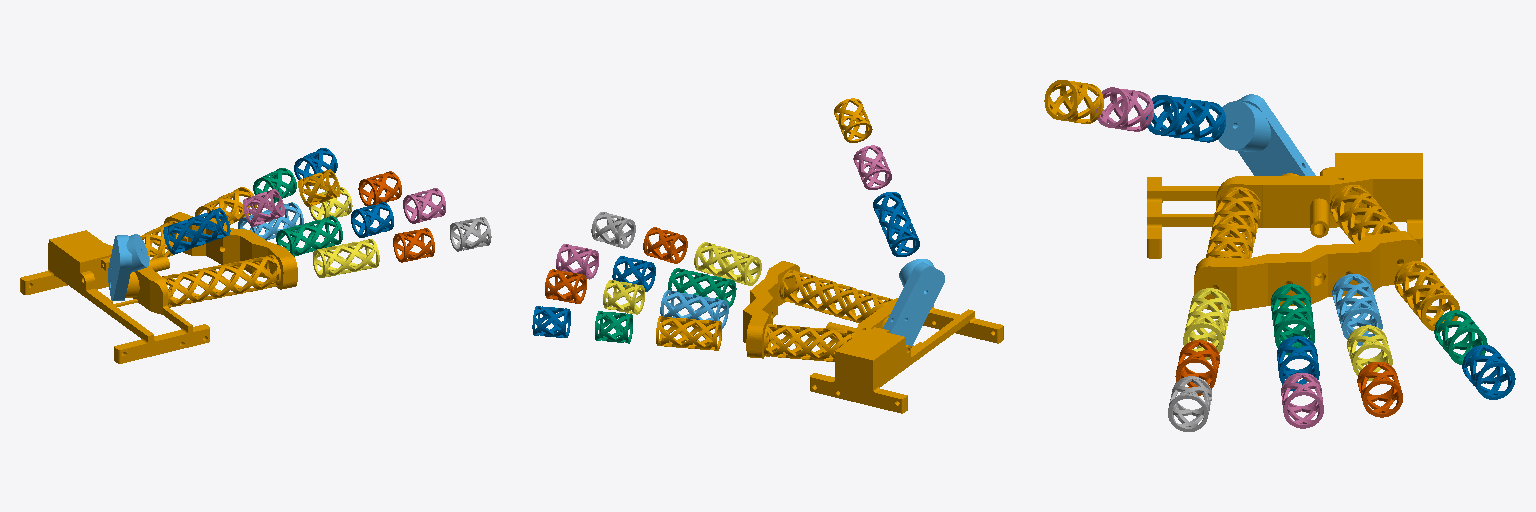
robot.urdf — hand:
<robot name="hand">

    <!--Base-->
    <link name="palm">
        <inertial>
            <density value="1400"/>
        </inertial>
        <collision>
            <origin xyz="0.046 -0.014 0." rpy="0 0 -0.1"/>
            <geometry>
                <box size="0.065 0.035 0.015" />
            </geometry>
        </collision>
        <collision>
            <origin xyz="0.039 0.016 0.0" rpy="0 0 0.35"/>
            <geometry>
                <box size="0.055 0.032 0.015" />
            </geometry>
        </collision>
        <collision>
            <origin xyz="0.043 0.0 0.0" rpy="0 0 0"/>
            <geometry>
                <box size="0.062 0.025 0.015" />
            </geometry>
        </collision>
        <collision>
            <origin xyz="0.011 -0.002 0.0" rpy="0 0 0"/>
            <geometry>
                <box size="0.006 0.05 0.015" />
            </geometry>
        </collision>
        <visual>
            <origin xyz="0 0 0" rpy="-3.142 0 -1.571"/>
            <geometry>
                <mesh filename="meshes/wrist_bone.stl" scale="0.001 0.001 0.001"/>
            </geometry>
        </visual>
        <visual>
            <origin xyz="0.014 -0.02 0" rpy="0 0 -1.661"/>
            <geometry>
                <mesh filename="meshes/metacarpal_long.stl" scale="0.001 0.001 0.001"/>
            </geometry>
        </visual>
        <visual>
            <origin xyz="0.012 0.016 0" rpy="0 0 -1.241"/>
            <geometry>
                <mesh filename="meshes/metacarpal_short.stl" scale="0.001 0.001 0.001"/>
            </geometry>
        </visual>
    </link>
    
    <!--Thumb-->
    <link name="thumb_yaw">
        <inertial>
            <density value="1400"/>
        </inertial>
        <collision>
            <origin xyz="0.004 0 0" rpy="0 -1.571 0"/>
            <geometry>
                <cylinder length="0.01" radius="0.007" />
            </geometry>
        </collision>
        <collision>
            <origin xyz="-0.0035 -0.015 0" rpy="0 -1.571 0"/>
            <geometry>
                <box size="0.016 0.04 0.005" />
            </geometry>
        </collision>
        <visual>
            <origin xyz="-0.0033 0 0" rpy="0 0 -1.571"/>
            <geometry>
                <mesh filename="meshes/thumb_yaw.stl" scale="0.001 0.001 0.001"/>
            </geometry>
        </visual>
    </link>
    <link name="thumb_base">
        <inertial>
            <density value="1400"/>
        </inertial>
        <collision>
            <origin xyz="-0.002 0 0" rpy="0 -1.571 0"/>
            <geometry>
                <cylinder length="0.018" radius="0.007" />
            </geometry>
        </collision>
    </link>

    <link name="thumb_proximal_base"/>
    <link name="thumb_proximal">
        <inertial>
            <density value="1400"/>
        </inertial>
        <collision>
            <origin xyz="0.02 0 0" rpy="0 -1.571 0"/>
            <geometry>
                <cylinder length="0.04" radius="0.007" />
            </geometry>
        </collision>
        <visual>
            <origin xyz="0.007 0 0" rpy="0 0 -1.571"/>
            <geometry>
                <mesh filename="meshes/bone_long.stl" scale="0.001 0.001 0.001"/>
            </geometry>
        </visual>
    </link>

    <link name="thumb_middle_base"/>
    <link name="thumb_middle">
        <inertial>
            <density value="1400"/>
        </inertial>
        <collision>
            <origin xyz="0.014 0 0" rpy="0 -1.571 0"/>
            <geometry>
                <cylinder length="0.028" radius="0.007" />
            </geometry>
        </collision>
        <visual>
            <origin xyz="0.007 0.0 0" rpy="0 0 -1.571"/>
            <geometry>
                <mesh filename="meshes/bone_short.stl" scale="0.001 0.001 0.001"/>
            </geometry>
        </visual>
    </link>

    <link name="thumb_distal_base"/>
    <link name="thumb_distal">
        <inertial>
            <density value="1400"/>
        </inertial>
        <collision>
            <origin xyz="0.011 0 0" rpy="0 -1.571 0"/>
            <geometry>
                <cylinder length="0.022" radius="0.007" />
            </geometry>
        </collision>
        <visual>
            <origin xyz="0.007 0 0" rpy="0 0 -1.571"/>
            <geometry>
                <mesh filename="meshes/bone_short.stl" scale="0.001 0.001 0.001"/>
            </geometry>
        </visual>
    </link> 

    <joint name="palm_to_thumb_yaw" type="revolute">
        <child link="thumb_yaw"/>
        <parent link="palm"/>
        <origin xyz="0.005 -0.003 0" rpy="0 0 -0.35"/>
        <axis xyz="-1 0 0"/>
        <limit lower="0.3" upper="1.571" effort="1e+15" velocity="20"/>
    </joint>
    <joint name="thumb_yaw_to_thumb_base" type="fixed">
        <child link="thumb_base"/>
        <parent link="thumb_yaw"/>
        <origin xyz="0.005 -0.03 0.0" rpy="-0 0 -0.55"/>
    </joint>
    <joint name="thumb_base_to_thumb_proximal" type="revolute">
        <child link="thumb_proximal_base"/>
        <parent link="thumb_base"/>
        <origin xyz="0.007 0 0" rpy="0 0 0"/>
        <axis xyz="0 -1 0"/>
        <limit lower="0" upper="1.571" effort="1e+15" velocity="20"/>
    </joint>
    <joint name="thumb_proximal_morph" type="prismatic">
        <child link="thumb_proximal"/>
        <parent link="thumb_proximal_base"/>
        <origin xyz="0 0 0" rpy="0 0 0"/>
        <axis xyz="1 0 0"/>
        <limit lower="-0.013" upper="0" effort="1e+15" velocity="0.1"/>
    </joint>
    <joint name="thumb_proximal_to_thumb_middle" type="revolute">
        <child link="thumb_middle_base"/>
        <parent link="thumb_proximal"/>
        <origin xyz="0.04 0 0" rpy="0 0 0"/>
        <axis xyz="0 -1 0"/>
        <limit lower="0" upper="1.571" effort="1e+15" velocity="20"/>
    </joint>
    <joint name="thumb_middle_morph" type="prismatic">
        <child link="thumb_middle"/>
        <parent link="thumb_middle_base"/>
        <origin xyz="0 0 0" rpy="0 0 0"/>
        <axis xyz="1 0 0"/>
        <limit lower="-0.0075" upper="0" effort="1e+15" velocity="0.1"/>
    </joint>
    <joint name="thumb_middle_to_thumb_distal" type="revolute">
        <child link="thumb_distal_base"/>
        <parent link="thumb_middle"/>
        <origin xyz="0.028 0 0" rpy="0 0 0"/>
        <axis xyz="0 -1 0"/>
        <limit lower="0" upper="1.571" effort="1e+15" velocity="20"/>
    </joint>
    <joint name="thumb_distal_morph" type="prismatic">
        <child link="thumb_distal"/>
        <parent link="thumb_distal_base"/>
        <origin xyz="0 0 0" rpy="0 0 0"/>
        <axis xyz="1 0 0"/>
        <limit lower="-0.0075" upper="0" effort="1e+15" velocity="0.1"/>
    </joint>
    
    <!--Index-->
    <link name="index_base">
        <inertial>
            <density value="1400"/>
        </inertial>
        <collision>
            <origin xyz="0.0035 0 0" rpy="0 -1.571 0"/>
            <geometry>
                <cylinder length="0.007" radius="0.007" />
            </geometry>
        </collision>
    </link>

    <link name="index_proximal_base"/>
    <link name="index_proximal">
        <inertial>
            <density value="1400"/>
        </inertial>
        <collision>
            <origin xyz="0.02 0 0" rpy="0 -1.571 0"/>
            <geometry>
                <cylinder length="0.04" radius="0.007" />
            </geometry>
        </collision>
        <visual>
            <origin xyz="0.007 0 0" rpy="0 0 -1.571"/>
            <geometry>
                <mesh filename="meshes/bone_long.stl" scale="0.001 0.001 0.001"/>
            </geometry>
        </visual>
    </link>

    <link name="index_middle_base"/>
    <link name="index_middle">
        <inertial>
            <density value="1400"/>
        </inertial>
        <collision>
            <origin xyz="0.014 0 0" rpy="0 -1.571 0"/>
            <geometry>
                <cylinder length="0.028" radius="0.007" />
            </geometry>
        </collision>
        <visual>
            <origin xyz="0.007 0.0 0" rpy="0 0 -1.571"/>
            <geometry>
                <mesh filename="meshes/bone_short.stl" scale="0.001 0.001 0.001"/>
            </geometry>
        </visual>
    </link>

    <link name="index_distal_base"/>
    <link name="index_distal">
        <inertial>
            <density value="1400"/>
        </inertial>
        <collision>
            <origin xyz="0.011 0 0" rpy="0 -1.571 0"/>
            <geometry>
                <cylinder length="0.022" radius="0.007" />
            </geometry>
        </collision>
        <visual>
            <origin xyz="0.007 0 0" rpy="0 0 -1.571"/>
            <geometry>
                <mesh filename="meshes/bone_short.stl" scale="0.001 0.001 0.001"/>
            </geometry>
        </visual>
    </link> 
    
    <joint name="palm_to_index_base" type="fixed">
        <child link="index_base"/>
        <parent link="palm"/>
        <origin xyz="0.077 -0.028 0.0003" rpy="0 0 -0.09"/>
    </joint>
    <joint name="index_base_to_index_proximal" type="revolute">
        <child link="index_proximal_base"/>
        <parent link="index_base"/>
        <origin xyz="0.007 0 0" rpy="0 0 0"/>
        <axis xyz="0 -1 0"/>
        <limit lower="0" upper="1.571" effort="1e+15" velocity="20"/>
    </joint>
    <joint name="index_proximal_morph" type="prismatic">
        <child link="index_proximal"/>
        <parent link="index_proximal_base"/>
        <origin xyz="0 0 0" rpy="0 0 0"/>
        <axis xyz="1 0 0"/>
        <limit lower="-0.013" upper="0" effort="1e+15" velocity="0.1"/>
    </joint>
    <joint name="index_proximal_to_index_middle" type="revolute">
        <child link="index_middle_base"/>
        <parent link="index_proximal"/>
        <origin xyz="0.04 0 0" rpy="0 0 0"/>
        <axis xyz="0 -1 0"/>
        <limit lower="0" upper="1.571" effort="1e+15" velocity="20"/>
    </joint>
    <joint name="index_middle_morph" type="prismatic">
        <child link="index_middle"/>
        <parent link="index_middle_base"/>
        <origin xyz="0 0 0" rpy="0 0 0"/>
        <axis xyz="1 0 0"/>
        <limit lower="-0.0075" upper="0" effort="1e+15" velocity="0.1"/>
    </joint>
    <joint name="index_middle_to_index_distal" type="revolute">
        <child link="index_distal_base"/>
        <parent link="index_middle"/>
        <origin xyz="0.028 0 0" rpy="0 0 0"/>

        <axis xyz="0 -1 0"/>
        <limit lower="0" upper="1.571" effort="1e+15" velocity="20"/>
    </joint>
    <joint name="index_distal_morph" type="prismatic">
        <child link="index_distal"/>
        <parent link="index_distal_base"/>
        <origin xyz="0 0 0" rpy="0 0 0"/>
        <axis xyz="1 0 0"/>
        <limit lower="-0.0075" upper="0" effort="1e+15" velocity="0.1"/>
    </joint>


    <!--Mid-->
    <link name="mid_base">
        <inertial>
            <density value="1400"/>
        </inertial>
        <collision>
            <origin xyz="0.0035 0 0" rpy="0 -1.571 0"/>
            <geometry>
                <cylinder length="0.007" radius="0.007" />
            </geometry>
        </collision>
    </link>

    <link name="mid_proximal_base"/>
    <link name="mid_proximal">
        <inertial>
            <density value="1400"/>
        </inertial>
        <collision>
            <origin xyz="0.02 0 0" rpy="0 -1.571 0"/>
            <geometry>
                <cylinder length="0.04" radius="0.007" />
            </geometry>
        </collision>
        <visual>
            <origin xyz="0.007 0 0" rpy="0 0 -1.571"/>
            <geometry>
                <mesh filename="meshes/bone_long.stl" scale="0.001 0.001 0.001"/>
            </geometry>
        </visual>
    </link>

    <link name="mid_middle_base"/>
    <link name="mid_middle">
        <inertial>
            <density value="1400"/>
        </inertial>
        <collision>
            <origin xyz="0.014 0 0" rpy="0 -1.571 0"/>
            <geometry>
                <cylinder length="0.028" radius="0.007" />
            </geometry>
        </collision>
        <visual>
            <origin xyz="0.007 0.0 0" rpy="0 0 -1.571"/>
            <geometry>
                <mesh filename="meshes/bone_short.stl" scale="0.001 0.001 0.001"/>
            </geometry>
        </visual>
    </link>

    <link name="mid_distal_base"/>
    <link name="mid_distal">
        <inertial>
            <density value="1400"/>
        </inertial>
        <collision>
            <origin xyz="0.011 0 0" rpy="0 -1.571 0"/>
            <geometry>
                <cylinder length="0.022" radius="0.007" />
            </geometry>
        </collision>
        <visual>
            <origin xyz="0.007 0 0" rpy="0 0 -1.571"/>
            <geometry>
                <mesh filename="meshes/bone_short.stl" scale="0.001 0.001 0.001"/>
            </geometry>
        </visual>
    </link> 
    
    <joint name="palm_to_mid_base" type="fixed">
        <child link="mid_base"/>
        <parent link="palm"/>
        <origin xyz="0.074 -0.004 0.0003" rpy="0 0 0.05"/>
    </joint>
        <joint name="mid_base_to_mid_proximal" type="revolute">
        <child link="mid_proximal_base"/>
        <parent link="mid_base"/>
        <origin xyz="0.007 0 0" rpy="0 0 0"/>
        <axis xyz="0 -1 0"/>
        <limit lower="0" upper="1.571" effort="1e+15" velocity="20"/>
    </joint>
    <joint name="mid_proximal_morph" type="prismatic">
        <child link="mid_proximal"/>
        <parent link="mid_proximal_base"/>
        <origin xyz="0 0 0" rpy="0 0 0"/>
        <axis xyz="1 0 0"/>
        <limit lower="-0.013" upper="0" effort="1e+15" velocity="0.1"/>
    </joint>
    <joint name="mid_proximal_to_mid_middle" type="revolute">
        <child link="mid_middle_base"/>
        <parent link="mid_proximal"/>
        <origin xyz="0.04 0 0" rpy="0 0 0"/>
        <axis xyz="0 -1 0"/>
        <limit lower="0" upper="1.571" effort="1e+15" velocity="20"/>
    </joint>
    <joint name="mid_middle_morph" type="prismatic">
        <child link="mid_middle"/>
        <parent link="mid_middle_base"/>
        <origin xyz="0 0 0" rpy="0 0 0"/>
        <axis xyz="1 0 0"/>
        <limit lower="-0.0075" upper="0" effort="1e+15" velocity="0.1"/>
    </joint>
    <joint name="mid_middle_to_mid_distal" type="revolute">
        <child link="mid_distal_base"/>
        <parent link="mid_middle"/>
        <origin xyz="0.028 0 0" rpy="0 0 0"/>
        <axis xyz="0 -1 0"/>
        <limit lower="0" upper="1.571" effort="1e+15" velocity="20"/>
    </joint>
    <joint name="mid_distal_morph" type="prismatic">
        <child link="mid_distal"/>
        <parent link="mid_distal_base"/>
        <origin xyz="0 0 0" rpy="0 0 0"/>
        <axis xyz="1 0 0"/>
        <limit lower="-0.0075" upper="0" effort="1e+15" velocity="0.1"/>
    </joint>

    <!--Ring-->
    <link name="ring_base">
        <inertial>
            <density value="1400"/>
        </inertial>
        <collision>
            <origin xyz="0.0035 0 0" rpy="0 -1.571 0"/>
            <geometry>
                <cylinder length="0.007" radius="0.007" />
            </geometry>
        </collision>
    </link>

    <link name="ring_proximal_base"/>
    <link name="ring_proximal">
        <inertial>
            <density value="1400"/>
        </inertial>
        <collision>
            <origin xyz="0.02 0 0" rpy="0 -1.571 0"/>
            <geometry>
                <cylinder length="0.04" radius="0.007" />
            </geometry>
        </collision>
        <visual>
            <origin xyz="0.007 0 0" rpy="0 0 -1.571"/>
            <geometry>
                <mesh filename="meshes/bone_long.stl" scale="0.001 0.001 0.001"/>
            </geometry>
        </visual>
    </link>

    <link name="ring_middle_base"/>
    <link name="ring_middle">
        <inertial>
            <density value="1400"/>
        </inertial>
        <collision>
            <origin xyz="0.014 0 0" rpy="0 -1.571 0"/>
            <geometry>
                <cylinder length="0.028" radius="0.007" />
            </geometry>
        </collision>
        <visual>
            <origin xyz="0.007 0.0 0" rpy="0 0 -1.571"/>
            <geometry>
                <mesh filename="meshes/bone_short.stl" scale="0.001 0.001 0.001"/>
            </geometry>
        </visual>
    </link>

    <link name="ring_distal_base"/>
    <link name="ring_distal">
        <inertial>
            <density value="1400"/>
        </inertial>
        <collision>
            <origin xyz="0.011 0 0" rpy="0 -1.571 0"/>
            <geometry>
                <cylinder length="0.022" radius="0.007" />
            </geometry>
        </collision>
        <visual>
            <origin xyz="0.007 0 0" rpy="0 0 -1.571"/>
            <geometry>
                <mesh filename="meshes/bone_short.stl" scale="0.001 0.001 0.001"/>
            </geometry>
        </visual>
    </link> 
    
    <joint name="palm_to_ring_base" type="fixed">
        <child link="ring_base"/>
        <parent link="palm"/>
        <origin xyz="0.066 0.015 0.0003" rpy="0 0 0.12"/>
    </joint>
    <joint name="ring_base_to_ring_proximal" type="revolute">
        <child link="ring_proximal_base"/>
        <parent link="ring_base"/>
        <origin xyz="0.007 0 0" rpy="0 0 0"/>
        <axis xyz="0 -1 0"/>
        <limit lower="0" upper="1.571" effort="1e+15" velocity="20"/>
    </joint>
    <joint name="ring_proximal_morph" type="prismatic">
        <child link="ring_proximal"/>
        <parent link="ring_proximal_base"/>
        <origin xyz="0 0 0" rpy="0 0 0"/>
        <axis xyz="1 0 0"/>
        <limit lower="-0.013" upper="0" effort="1e+15" velocity="0.1"/>
    </joint>
    <joint name="ring_proximal_to_ring_middle" type="revolute">
        <child link="ring_middle_base"/>
        <parent link="ring_proximal"/>
        <origin xyz="0.04 0 0" rpy="0 0 0"/>
        <axis xyz="0 -1 0"/>
        <limit lower="0" upper="1.571" effort="1e+15" velocity="20"/>
    </joint>
    <joint name="ring_middle_morph" type="prismatic">
        <child link="ring_middle"/>
        <parent link="ring_middle_base"/>
        <origin xyz="0 0 0" rpy="0 0 0"/>
        <axis xyz="1 0 0"/>
        <limit lower="-0.0075" upper="0" effort="1e+15" velocity="0.1"/>
    </joint>
    <joint name="ring_middle_to_ring_distal" type="revolute">
        <child link="ring_distal_base"/>
        <parent link="ring_middle"/>
        <origin xyz="0.028 0 0" rpy="0 0 0"/>
        <axis xyz="0 -1 0"/>
        <limit lower="0" upper="1.571" effort="1e+15" velocity="20"/>
    </joint>
    <joint name="ring_distal_morph" type="prismatic">
        <child link="ring_distal"/>
        <parent link="ring_distal_base"/>
        <origin xyz="0 0 0" rpy="0 0 0"/>
        <axis xyz="1 0 0"/>
        <limit lower="-0.0075" upper="0" effort="1e+15" velocity="0.1"/>
    </joint>

    <!--Pinky-->
    <link name="pinky_base">
        <inertial>
            <density value="1400"/>
        </inertial>
        <collision>
            <origin xyz="0.0035 0 0" rpy="0 -1.571 0"/>
            <geometry>
                <cylinder length="0.007" radius="0.007" />
            </geometry>
        </collision>
    </link>

    <link name="pinky_proximal_base"/>
    <link name="pinky_proximal">
        <inertial>
            <density value="1400"/>
        </inertial>
        <collision>
            <origin xyz="0.02 0 0" rpy="0 -1.571 0"/>
            <geometry>
                <cylinder length="0.04" radius="0.007" />
            </geometry>
        </collision>
        <visual>
            <origin xyz="0.007 0 0" rpy="0 0 -1.571"/>
            <geometry>
                <mesh filename="meshes/bone_long.stl" scale="0.001 0.001 0.001"/>
            </geometry>
        </visual>
    </link>

    <link name="pinky_middle_base"/>
    <link name="pinky_middle">
        <inertial>
            <density value="1400"/>
        </inertial>
        <collision>
            <origin xyz="0.014 0 0" rpy="0 -1.571 0"/>
            <geometry>
                <cylinder length="0.028" radius="0.007" />
            </geometry>
        </collision>
        <visual>
            <origin xyz="0.007 0.0 0" rpy="0 0 -1.571"/>
            <geometry>
                <mesh filename="meshes/bone_short.stl" scale="0.001 0.001 0.001"/>
            </geometry>
        </visual>
    </link>

    <link name="pinky_distal_base"/>
    <link name="pinky_distal">
        <inertial>
            <density value="1400"/>
        </inertial>
        <collision>
            <origin xyz="0.011 0 0" rpy="0 -1.571 0"/>
            <geometry>
                <cylinder length="0.022" radius="0.007" />
            </geometry>
        </collision>
        <visual>
            <origin xyz="0.007 0 0" rpy="0 0 -1.571"/>
            <geometry>
                <mesh filename="meshes/bone_short.stl" scale="0.001 0.001 0.001"/>
            </geometry>
        </visual>
    </link> 
    
    <joint name="palm_to_pinky_base" type="fixed">
        <child link="pinky_base"/>
        <parent link="palm"/>
        <origin xyz="0.057 0.032 0.0003" rpy="0 0 0.33"/>
    </joint>
    <joint name="pinky_base_to_pinky_proximal" type="revolute">
        <child link="pinky_proximal_base"/>
        <parent link="pinky_base"/>
        <origin xyz="0.007 0 0" rpy="0 0 0"/>
        <axis xyz="0 -1 0"/>
        <limit lower="0" upper="1.571" effort="1e+15" velocity="20"/>
    </joint>
    <joint name="pinky_proximal_morph" type="prismatic">
        <child link="pinky_proximal"/>
        <parent link="pinky_proximal_base"/>
        <origin xyz="0 0 0" rpy="0 0 0"/>
        <axis xyz="1 0 0"/>
        <limit lower="-0.013" upper="0" effort="1e+15" velocity="0.1"/>
    </joint>
    <joint name="pinky_proximal_to_pinky_middle" type="revolute">
        <child link="pinky_middle_base"/>
        <parent link="pinky_proximal"/>
        <origin xyz="0.04 0 0" rpy="0 0 0"/>
        <axis xyz="0 -1 0"/>
        <limit lower="0" upper="1.571" effort="1e+15" velocity="20"/>
    </joint>
    <joint name="pinky_middle_morph" type="prismatic">
        <child link="pinky_middle"/>
        <parent link="pinky_middle_base"/>
        <origin xyz="0 0 0" rpy="0 0 0"/>
        <axis xyz="1 0 0"/>
        <limit lower="-0.0075" upper="0" effort="1e+15" velocity="0.1"/>
    </joint>
    <joint name="pinky_middle_to_pinky_distal" type="revolute">
        <child link="pinky_distal_base"/>
        <parent link="pinky_middle"/>
        <origin xyz="0.028 0 0" rpy="0 0 0"/>
        <axis xyz="0 -1 0"/>
        <limit lower="0" upper="1.571" effort="1e+15" velocity="20"/>
    </joint>
    <joint name="pinky_distal_morph" type="prismatic">
        <child link="pinky_distal"/>
        <parent link="pinky_distal_base"/>
        <origin xyz="0 0 0" rpy="0 0 0"/>
        <axis xyz="1 0 0"/>
        <limit lower="-0.0075" upper="0" effort="1e+15" velocity="0.1"/>
    </joint>

</robot>

--- Render facts (derived) ---
The picture shows the robot from 3 angles, left to right: view 1: azimuth 30°, elevation 25°; view 2: azimuth 150°, elevation 25°; view 3: azimuth 270°, elevation 25°; orthographic projection.
Model hand with 37 links and 36 joints (16 revolute, 15 prismatic, 5 fixed), rooted at palm, posed joints at zero except 1 at the middle of their limits (palm_to_thumb_yaw = 0.9355).
Links seen in each view (by area): view 1: palm, thumb_yaw, thumb_proximal, index_proximal, mid_proximal, thumb_distal, thumb_middle, mid_distal, mid_middle, index_middle, index_distal, ring_distal (+5 smaller); view 2: palm, thumb_yaw, pinky_proximal, index_proximal, thumb_proximal, ring_proximal, mid_proximal, index_distal, thumb_middle, ring_distal, index_middle, thumb_distal (+5 smaller); view 3: palm, thumb_yaw, thumb_proximal, pinky_proximal, ring_proximal, index_proximal, mid_proximal, thumb_distal, pinky_distal, thumb_middle, ring_distal, index_distal (+5 smaller).
Boxes of the visible links, x1,y1,x2,y2 form: palm: [20, 212, 297, 363]; thumb_yaw: [108, 234, 148, 300]; thumb_proximal: [163, 208, 230, 254]; index_proximal: [313, 239, 379, 277]; mid_proximal: [276, 216, 342, 256]; thumb_distal: [298, 169, 340, 206]; thumb_middle: [243, 189, 284, 226]; mid_distal: [403, 188, 445, 223]; mid_middle: [351, 202, 393, 237]; index_middle: [393, 228, 434, 262]; index_distal: [450, 217, 491, 251]; ring_distal: [358, 171, 401, 205]; palm: [743, 261, 1003, 413]; thumb_yaw: [883, 259, 944, 346]; pinky_proximal: [656, 316, 721, 350]; index_proximal: [694, 242, 761, 285]; thumb_proximal: [873, 192, 919, 256]; ring_proximal: [660, 290, 728, 328]; mid_proximal: [668, 268, 736, 307]; index_distal: [591, 212, 635, 248]; thumb_middle: [853, 145, 891, 189]; ring_distal: [545, 269, 586, 303]; index_middle: [643, 227, 687, 263]; thumb_distal: [834, 98, 872, 142]; palm: [1147, 153, 1422, 310]; thumb_yaw: [1216, 94, 1315, 175]; thumb_proximal: [1146, 95, 1225, 142]; pinky_proximal: [1394, 261, 1459, 330]; ring_proximal: [1332, 274, 1382, 345]; index_proximal: [1183, 288, 1230, 359]; mid_proximal: [1271, 284, 1314, 355]; thumb_distal: [1044, 80, 1103, 123]; pinky_distal: [1462, 345, 1515, 399]; thumb_middle: [1096, 87, 1153, 131]; ring_distal: [1357, 362, 1402, 417]; index_distal: [1168, 376, 1211, 431].
Bounding box of the posed robot: 0.199 × 0.1529 × 0.0851 m (x, y, z).
Meshes: 6 distinct files referenced, 19 mesh visuals loaded (6 binary STL).